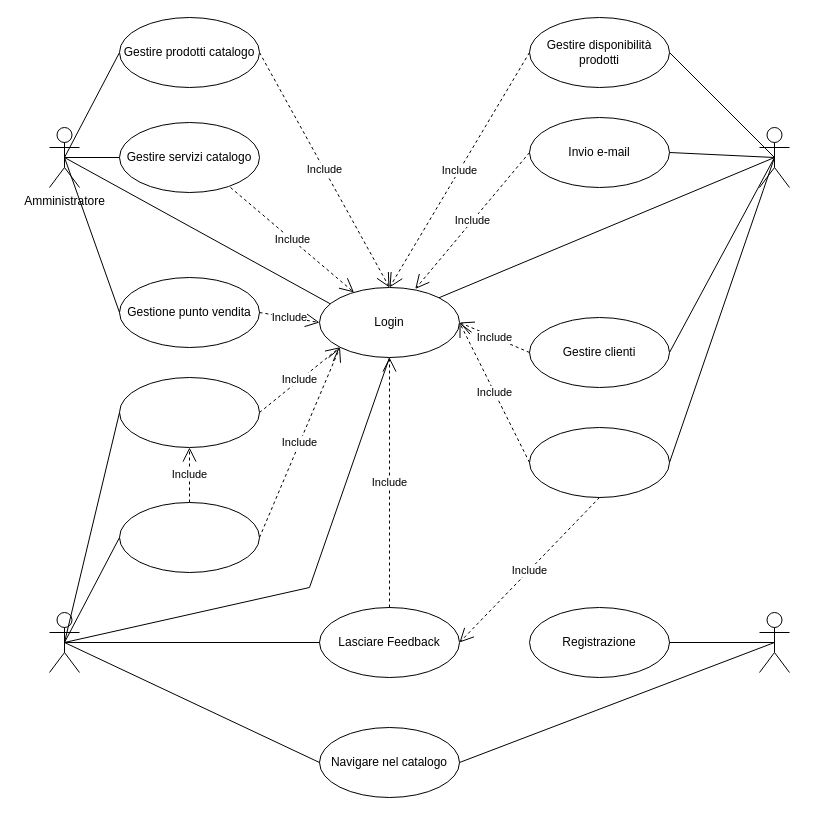
This 827x815 diagram has some shape labels left out. The centre of each missing label's shape, as x and y in pixels:
Acquistare articoli: pixel 189 537
Definire liste d'acquisto: pixel 189 412
Manager: pixel 774 157
Rispondere ai commenti: pixel 599 462
Utente Acquirente: pixel 64 642
Utente Guest: pixel 774 642
